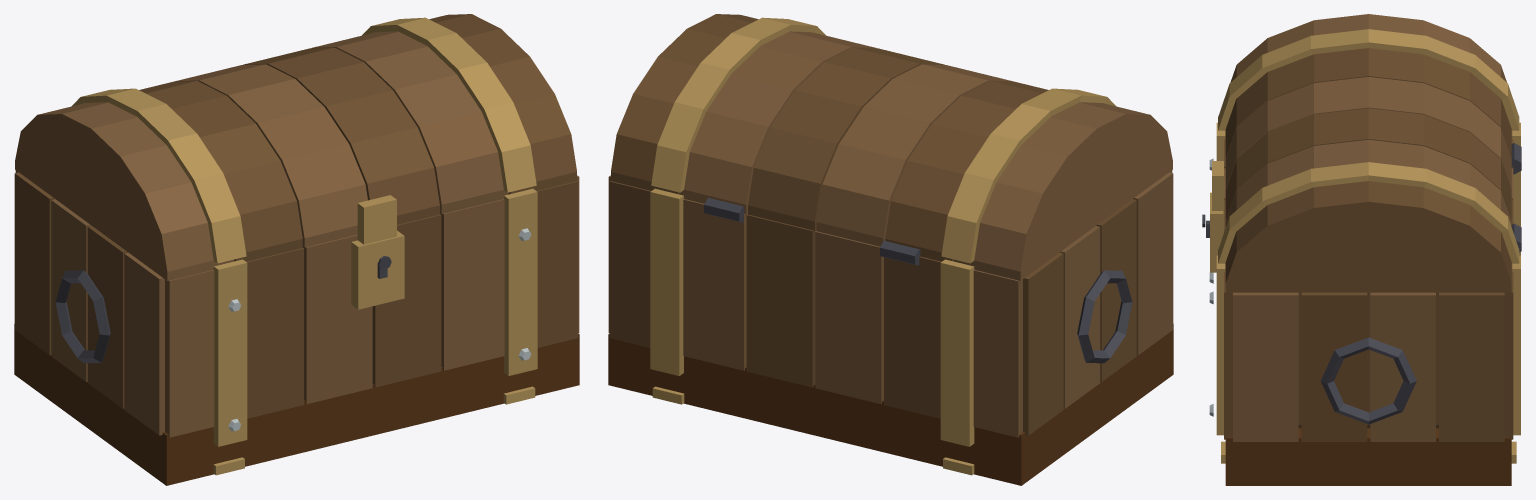
Rendered from treasure_chest.glb.
3 views of the same model, side by side, from view 1: azimuth 30°, elevation 25°; view 2: azimuth 150°, elevation 25°; view 3: azimuth 270°, elevation 25° (orthographic). The views are drawn at different scales.
Visible parts, largest first — view 1: treasure_chest, treasure_chest_lid; view 2: treasure_chest, treasure_chest_lid; view 3: treasure_chest_lid, treasure_chest.
Boxes of the visible parts, x1,y1,x2,y2 form: treasure_chest: (14,170,579,485); treasure_chest_lid: (15,14,576,280); treasure_chest: (608,170,1173,485); treasure_chest_lid: (611,14,1172,280); treasure_chest_lid: (1212,14,1519,292); treasure_chest: (1202,122,1521,485).
Bounding box in the file's own units: 0.998 × 0.669 × 0.6696.
